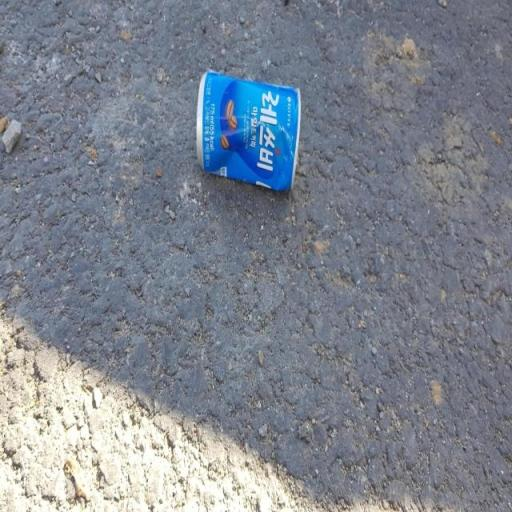metal: (192, 56, 300, 228)
